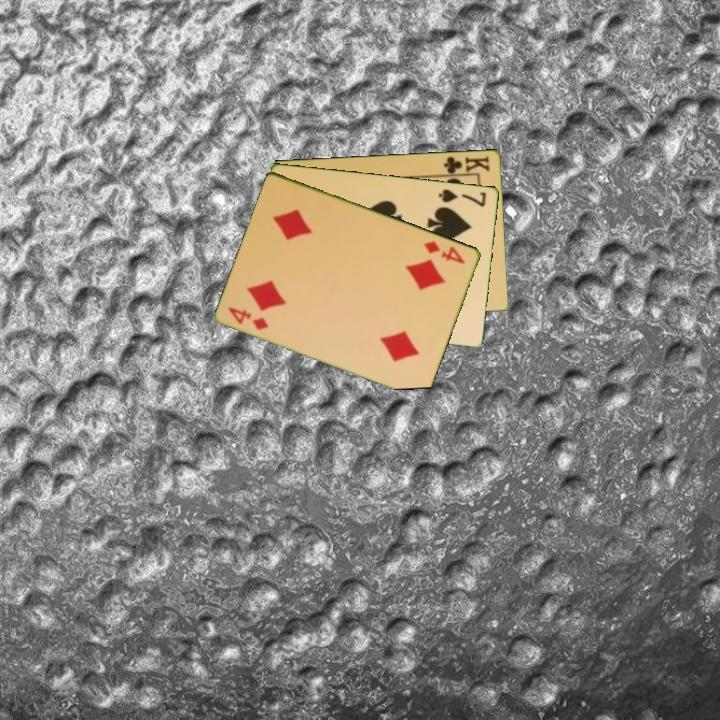4d: (421, 237, 468, 267), (225, 303, 272, 333)
7s: (435, 185, 489, 210)
Kc: (439, 152, 493, 178)
